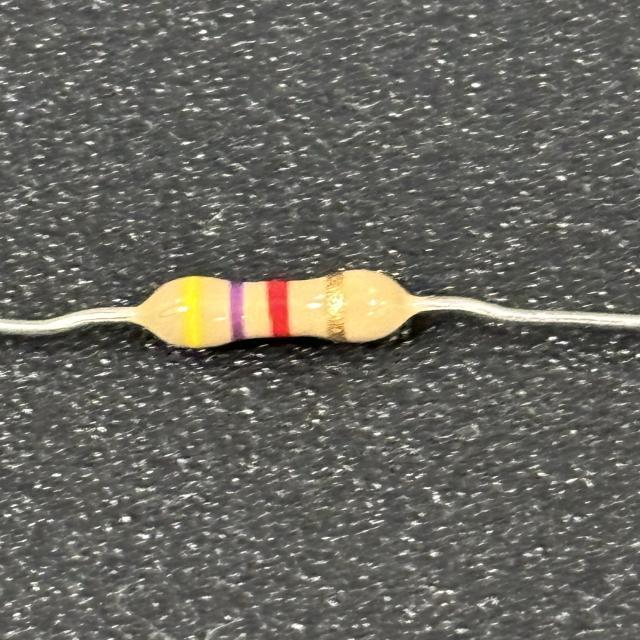resistor: (152, 264, 403, 355)
